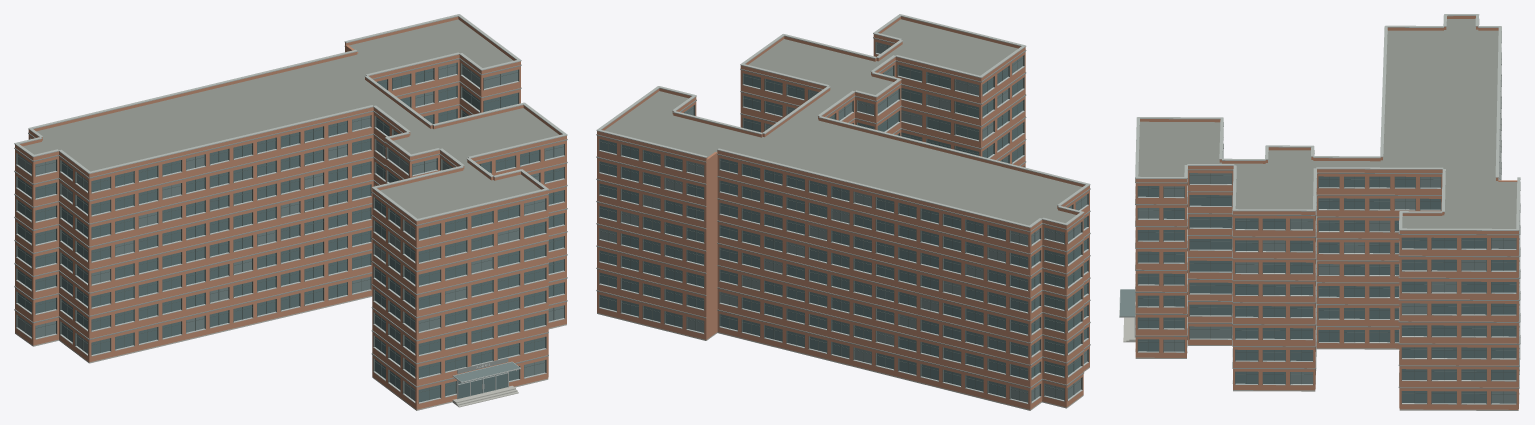
The model's file is south_teaching2.glb.
3 renders of one model, left to right at view 1: azimuth 30°, elevation 25°; view 2: azimuth 150°, elevation 25°; view 3: azimuth 270°, elevation 25°, orthographic. The views are drawn at different scales.
Parts seen in each view (by area): view 1: south_teaching2_Teaching2Brick, south_teaching2_WindowGlass, south_teaching2_FacultyRoof, south_teaching2_FacultyDarkPanel, south_teaching2_WindowGlassLight, south_teaching2_WindowAluminium, south_teaching2_WindowReveal, south_teaching2_WindowRubber, south_teaching2_Teaching5TileJoint, south_teaching2_EntryStone; view 2: south_teaching2_Teaching2Brick, south_teaching2_WindowGlass, south_teaching2_FacultyRoof, south_teaching2_FacultyDarkPanel, south_teaching2_WindowGlassLight, south_teaching2_WindowAluminium, south_teaching2_WindowReveal, south_teaching2_WindowRubber, south_teaching2_Teaching5TileJoint, south_teaching2_EntryStone; view 3: south_teaching2_Teaching2Brick, south_teaching2_FacultyRoof, south_teaching2_WindowGlass, south_teaching2_FacultyDarkPanel, south_teaching2_WindowGlassLight, south_teaching2_WindowAluminium, south_teaching2_Teaching5TileJoint, south_teaching2_WindowRubber, south_teaching2_WindowReveal, south_teaching2_EntryStone.
Boxes of the visible parts, x1,y1,x2,y2 form: south_teaching2_Teaching2Brick: (15, 16, 566, 409); south_teaching2_WindowGlass: (17, 68, 563, 402); south_teaching2_FacultyRoof: (23, 19, 558, 218); south_teaching2_FacultyDarkPanel: (14, 46, 567, 387); south_teaching2_WindowGlassLight: (17, 63, 563, 400); south_teaching2_WindowAluminium: (16, 74, 564, 403); south_teaching2_WindowReveal: (16, 62, 564, 402); south_teaching2_WindowRubber: (17, 65, 563, 399); south_teaching2_Teaching5TileJoint: (14, 14, 567, 221); south_teaching2_EntryStone: (15, 295, 566, 410); south_teaching2_Teaching2Brick: (597, 16, 1089, 409); south_teaching2_WindowGlass: (600, 65, 1087, 396); south_teaching2_FacultyRoof: (604, 19, 1082, 225); south_teaching2_FacultyDarkPanel: (596, 37, 1090, 388); south_teaching2_WindowGlassLight: (600, 42, 1087, 402); south_teaching2_WindowAluminium: (599, 53, 1088, 403); south_teaching2_WindowReveal: (599, 42, 1088, 403); south_teaching2_WindowRubber: (600, 44, 1087, 400); south_teaching2_Teaching5TileJoint: (596, 14, 1090, 227); south_teaching2_EntryStone: (597, 313, 1089, 410); south_teaching2_Teaching2Brick: (1135, 16, 1519, 409); south_teaching2_FacultyRoof: (1138, 19, 1517, 228); south_teaching2_WindowGlass: (1138, 176, 1516, 403); south_teaching2_FacultyDarkPanel: (1135, 19, 1520, 388); south_teaching2_WindowGlassLight: (1119, 173, 1516, 403); south_teaching2_WindowAluminium: (1119, 138, 1519, 404); south_teaching2_Teaching5TileJoint: (1135, 14, 1520, 230); south_teaching2_WindowRubber: (1138, 173, 1516, 403); south_teaching2_WindowReveal: (1137, 173, 1516, 404); south_teaching2_EntryStone: (1123, 317, 1518, 410).
Bounding box in the file's own units: 74.15 × 28.92 × 58.12.
